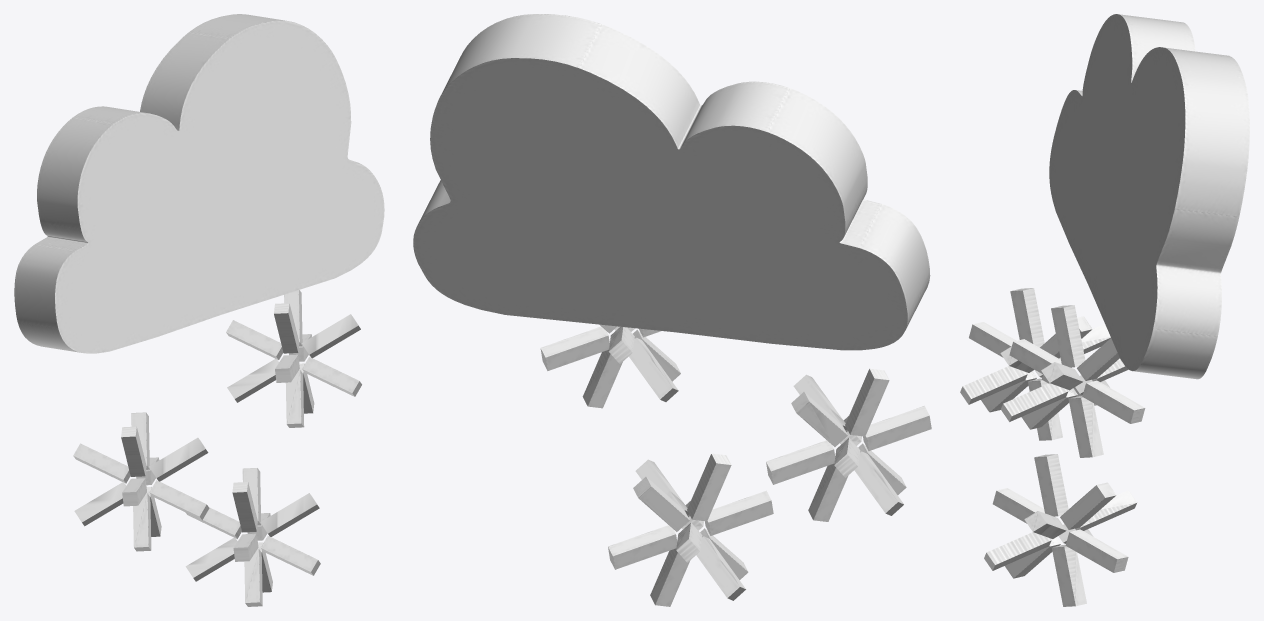
The model's file is 3d_neve.glb.
The picture shows the model from 3 angles, left to right: view 1: azimuth 30°, elevation 25°; view 2: azimuth 150°, elevation 25°; view 3: azimuth 270°, elevation 25°; orthographic projection. The views are drawn at different scales.
Visible parts, largest first — view 1: node_id8; view 2: node_id8; view 3: node_id8.
Boxes of the visible parts, bbox=[...] form: node_id8: bbox=[14, 14, 384, 606]; node_id8: bbox=[413, 14, 931, 606]; node_id8: bbox=[960, 14, 1249, 606].
Size of the model in its own units: 0.3184 by 0.4156 by 0.1924.
1 material, 1 textured.
